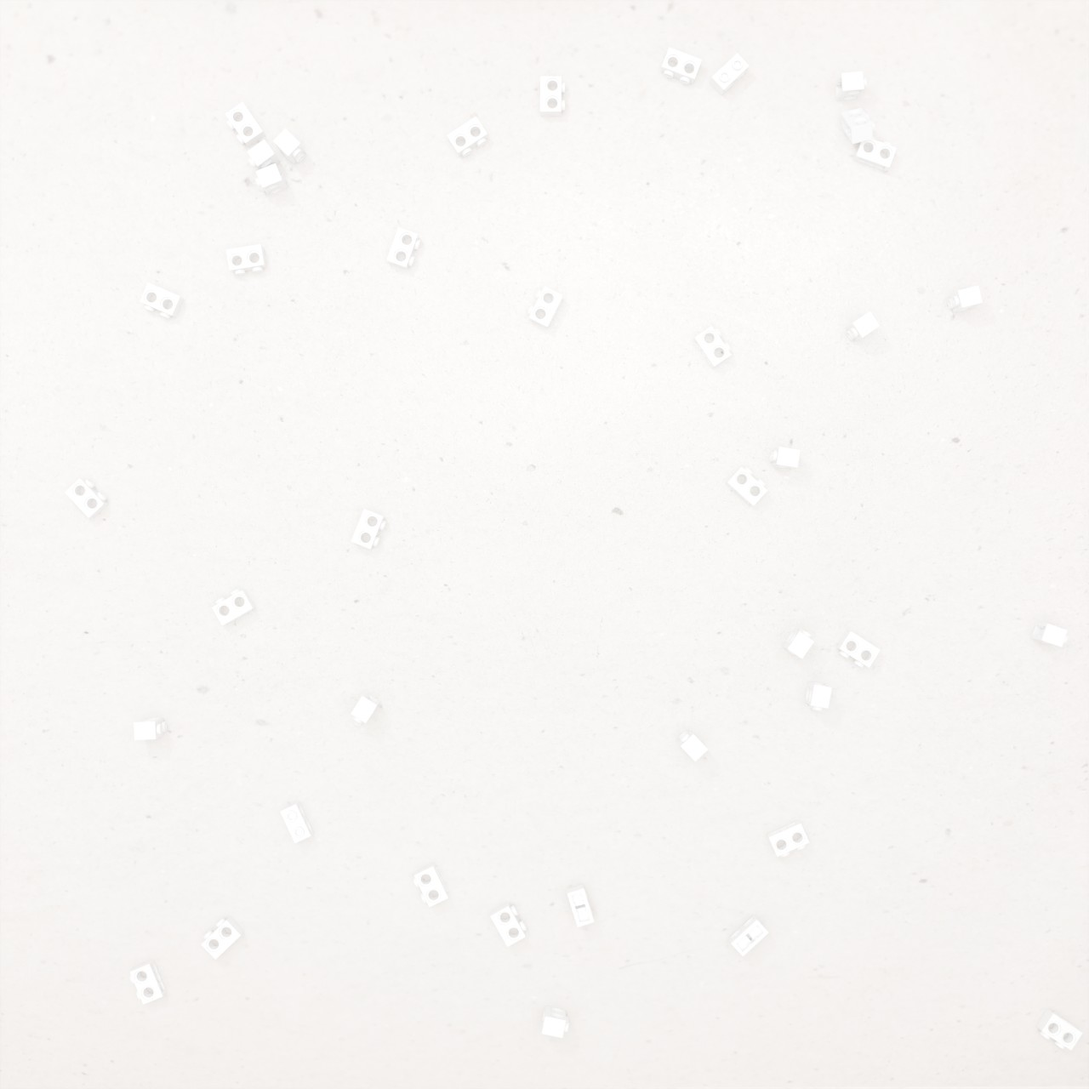lego: (1036, 1008, 1083, 1051), (201, 916, 244, 960), (225, 102, 266, 148), (64, 478, 109, 519), (709, 53, 750, 96), (446, 116, 488, 157), (728, 915, 769, 957), (725, 467, 768, 507), (836, 630, 881, 668), (130, 959, 167, 1005), (693, 326, 732, 369), (212, 588, 256, 626), (139, 282, 184, 319), (490, 902, 527, 947), (853, 135, 897, 172), (766, 820, 810, 857), (660, 47, 702, 85), (413, 863, 449, 907), (527, 286, 563, 329), (386, 227, 421, 270), (280, 800, 314, 844), (351, 509, 387, 549), (226, 244, 267, 275), (841, 107, 875, 144), (247, 139, 281, 175), (273, 128, 306, 165), (567, 884, 594, 928), (255, 163, 288, 196), (846, 311, 880, 342), (947, 285, 983, 313), (540, 76, 565, 116), (677, 730, 708, 762), (835, 71, 867, 101), (351, 692, 381, 724), (782, 629, 814, 659), (1030, 622, 1068, 647), (542, 1006, 569, 1038), (805, 681, 832, 711), (133, 717, 167, 740), (769, 447, 800, 469)
